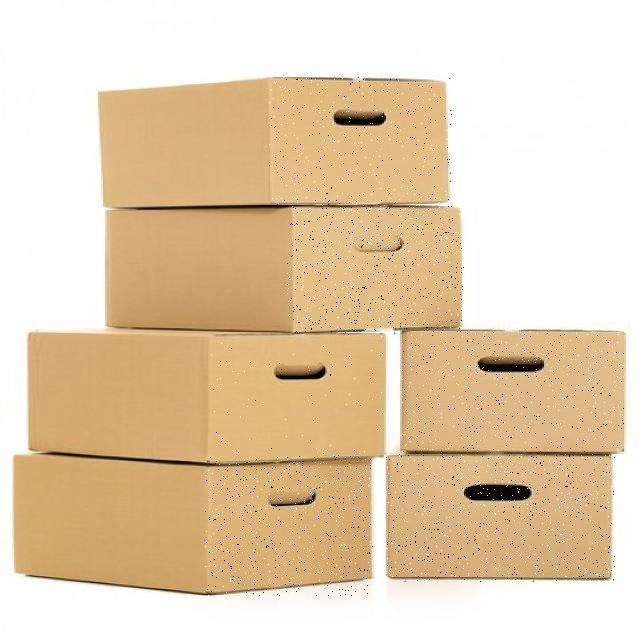BoxFace: (386, 454, 615, 582), (402, 332, 624, 454), (268, 77, 452, 206), (205, 456, 374, 596), (287, 206, 464, 334), (210, 333, 384, 463)
